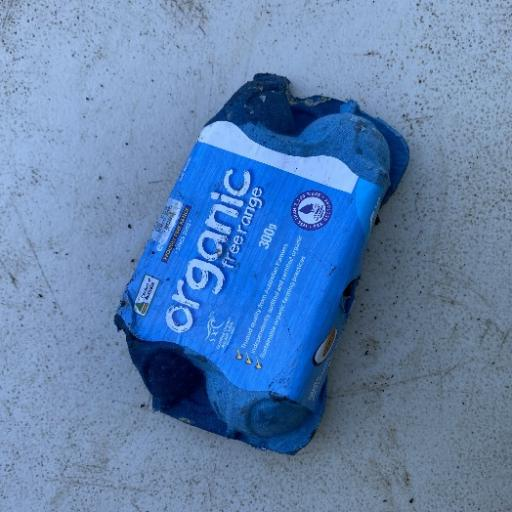Cardboard: (112, 72, 412, 456)
